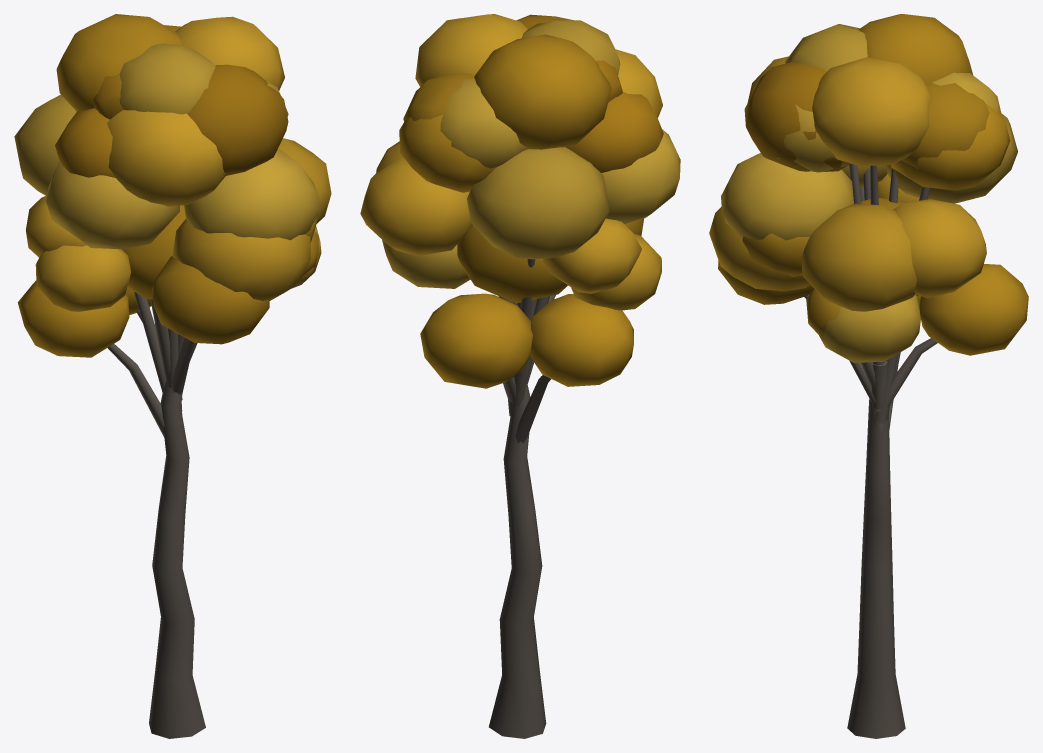
The model's file is tree_ginkgo_b.glb.
3 views of the same model, side by side, from view 1: azimuth 30°, elevation 25°; view 2: azimuth 150°, elevation 25°; view 3: azimuth 270°, elevation 25° (orthographic).
Parts seen in each view (by area): view 1: crown, trunk; view 2: crown, trunk; view 3: crown, trunk.
Part boxes in pixels (x1,y1,x2,y2): crown: (14, 14, 331, 357); trunk: (107, 291, 205, 738); crown: (360, 14, 680, 388); trunk: (489, 259, 555, 738); crown: (709, 14, 1028, 362); trunk: (804, 164, 937, 738).
Bounding box in the file's own units: 3.04 × 7.3 × 3.06.
